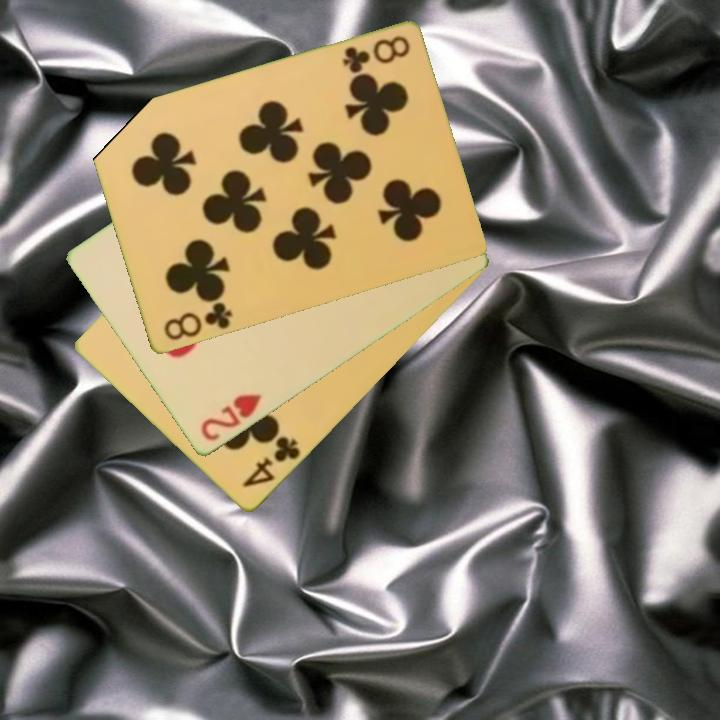2h: (197, 391, 265, 445)
4c: (239, 433, 304, 491)
8c: (160, 299, 235, 344), (338, 33, 413, 77)
